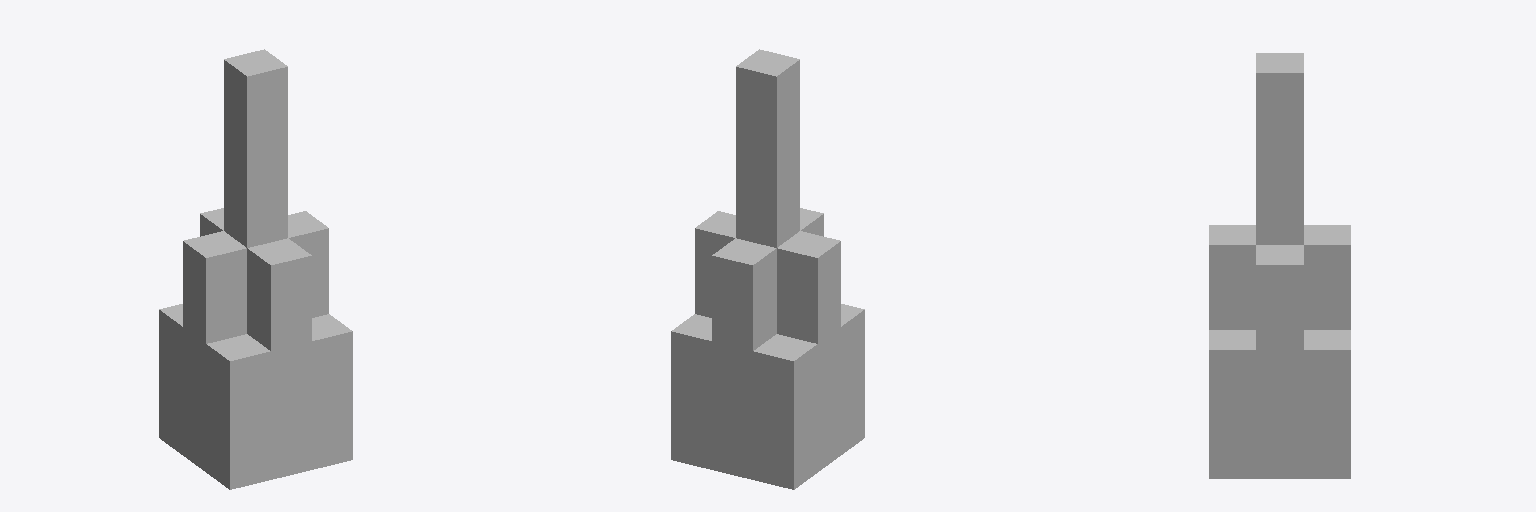
File: icicle.obj
3 renders of one model, left to right at view 1: azimuth 30°, elevation 25°; view 2: azimuth 150°, elevation 25°; view 3: azimuth 270°, elevation 25°, orthographic.
Size of the model in its own units: 3 by 9 by 3.